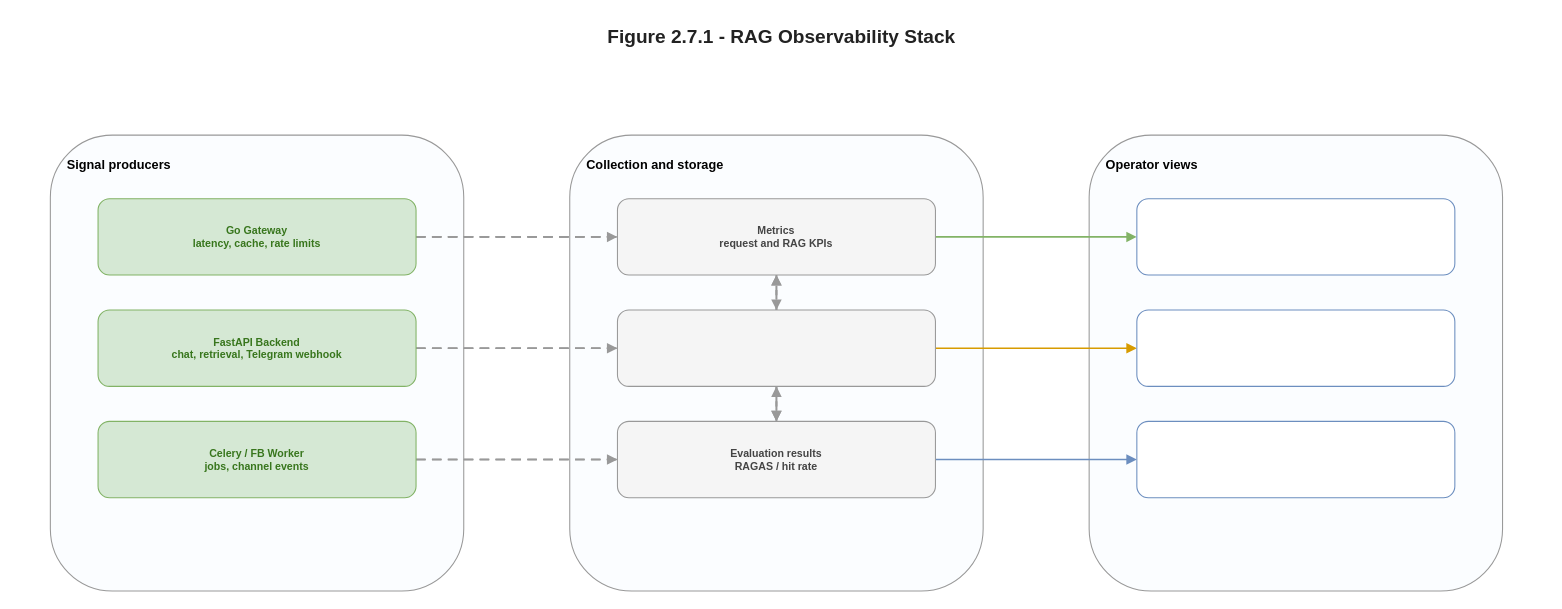
The diagram is 1562 pixels wide and 609 high, and some of its shapes have lost their labels. The centre of each missing label's shape, as x and y in pixels:
"Alerts failures and regressions" belongs at point 1295,347.
"Dashboard quality and throughput" belongs at point 1295,236.
"Debug panel chunks, scores, graph" belongs at point 1295,459.
"Structured logs errors and traces" belongs at point 775,347.
